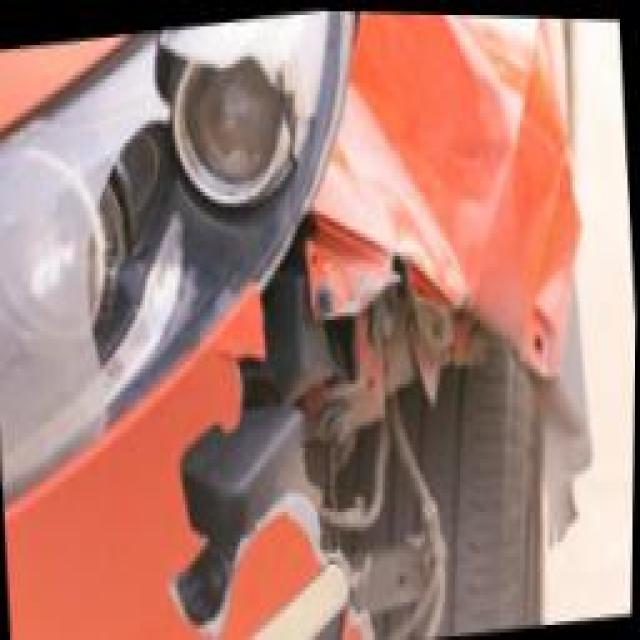Bumper: (117, 203, 578, 640)
